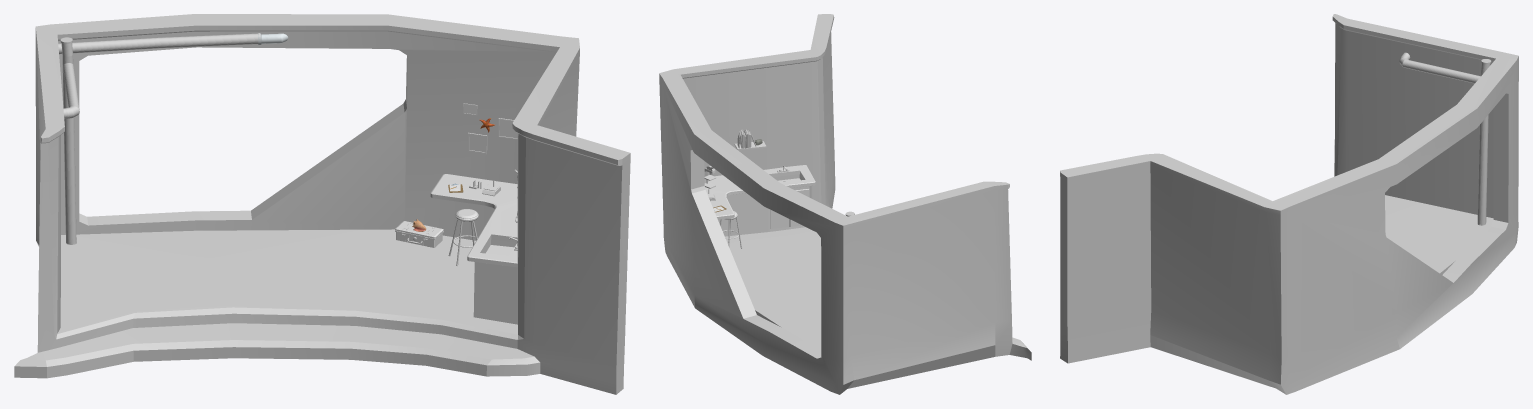
File: JobRoom_Temp.fbx
The picture shows the model from 3 angles, left to right: view 1: azimuth 30°, elevation 25°; view 2: azimuth 150°, elevation 25°; view 3: azimuth 270°, elevation 25°; orthographic projection. The views are drawn at different scales.
Parts seen in each view (by area): view 1: Researcher's room.003, Cube.420, Cube.419, Cylinder.301, Cylinder.272, Cube.357, Cylinder.281; view 2: Researcher's room.003, Cube.419, Cube.420; view 3: Researcher's room.003, Cylinder.272, Cylinder.281.
Boxes of the visible parts, box(x1,y1,x2,y2) form: Researcher's room.003: box(14, 14, 630, 394); Cube.420: box(430, 174, 517, 267); Cube.419: box(473, 239, 517, 324); Cylinder.301: box(58, 33, 260, 54); Cylinder.272: box(60, 37, 76, 244); Cube.357: box(395, 221, 443, 247); Cylinder.281: box(63, 63, 79, 118); Researcher's room.003: box(659, 14, 1031, 394); Cube.419: box(718, 165, 811, 236); Cube.420: box(705, 165, 815, 219); Researcher's room.003: box(1060, 14, 1518, 394); Cylinder.272: box(1477, 59, 1491, 225); Cylinder.281: box(1399, 52, 1480, 83).
Size of the model in its own units: 27.68 by 11.78 by 25.65.
